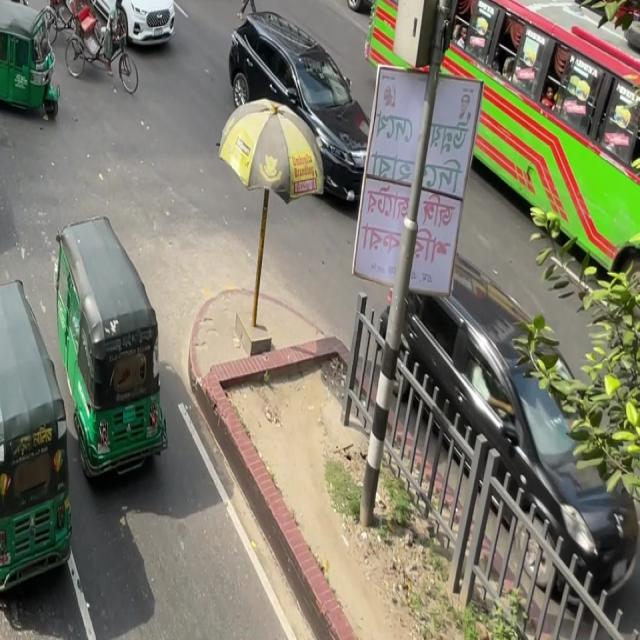car: (220, 4, 376, 167), (74, 0, 181, 47), (0, 59, 1, 247)
rickshaw: (37, 205, 191, 502), (0, 273, 94, 607), (0, 0, 63, 128)
